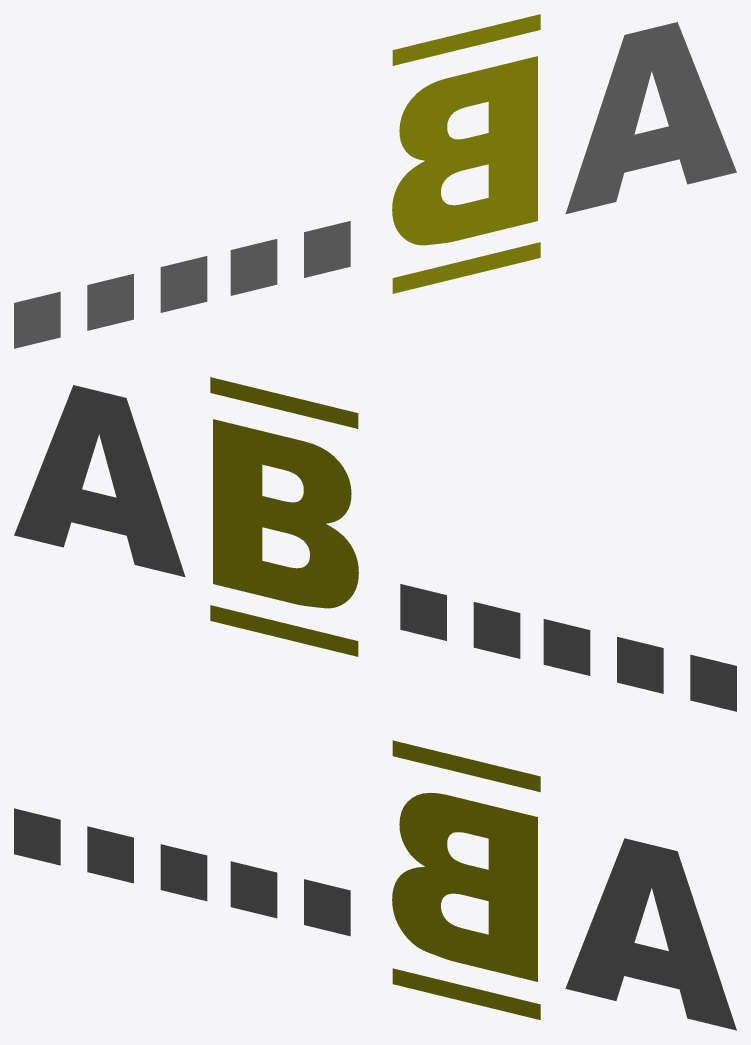
The model's file is icon1.ico.obj.
The picture shows the model from 3 angles, top to bottom: view 1: azimuth 30°, elevation 25°; view 2: azimuth 150°, elevation 25°; view 3: azimuth 330°, elevation 25°; orthographic projection.
Bounding box in the file's own units: 4.84 × 1.56 × 0.
1 material, 1 textured.
